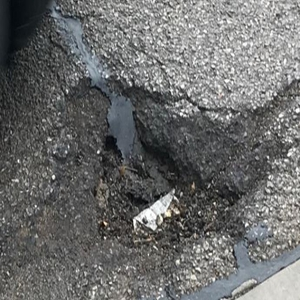pothole: (44, 80, 263, 259)
